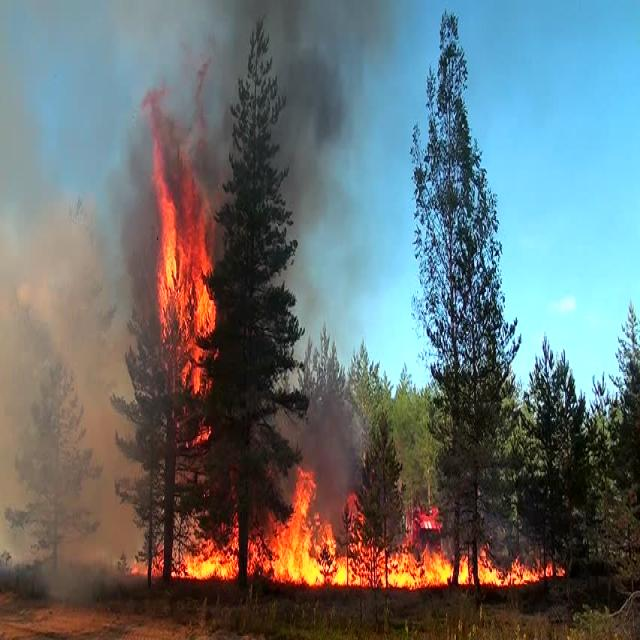fire: (266, 489, 338, 585), (160, 207, 214, 335), (387, 546, 448, 586)
